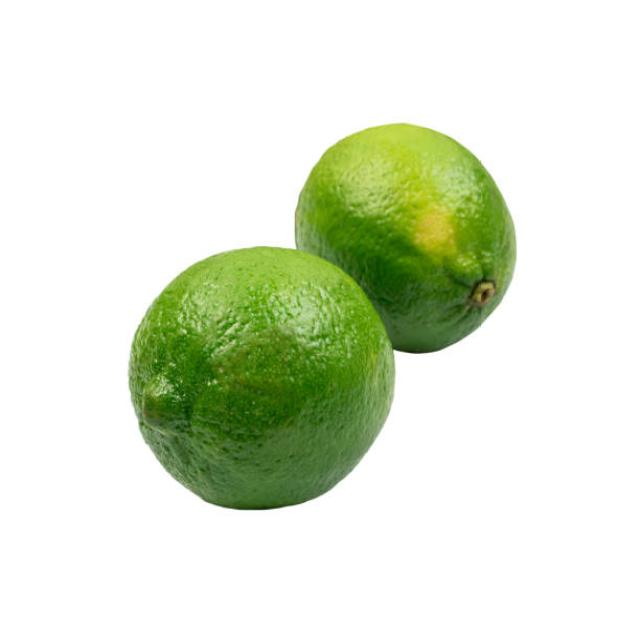Unripe: (127, 244, 394, 508), (292, 123, 520, 352)
